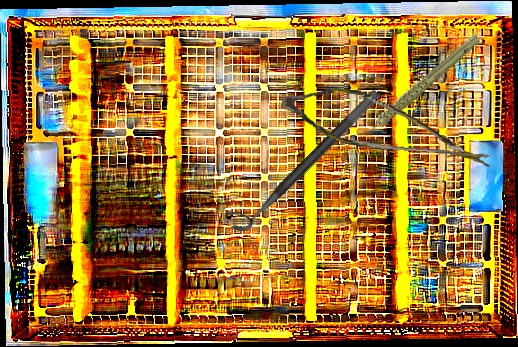Fixation Ring: (221, 77, 382, 239)
Handpiece: (342, 32, 495, 139)
Micro Scissor: (277, 83, 499, 168)
